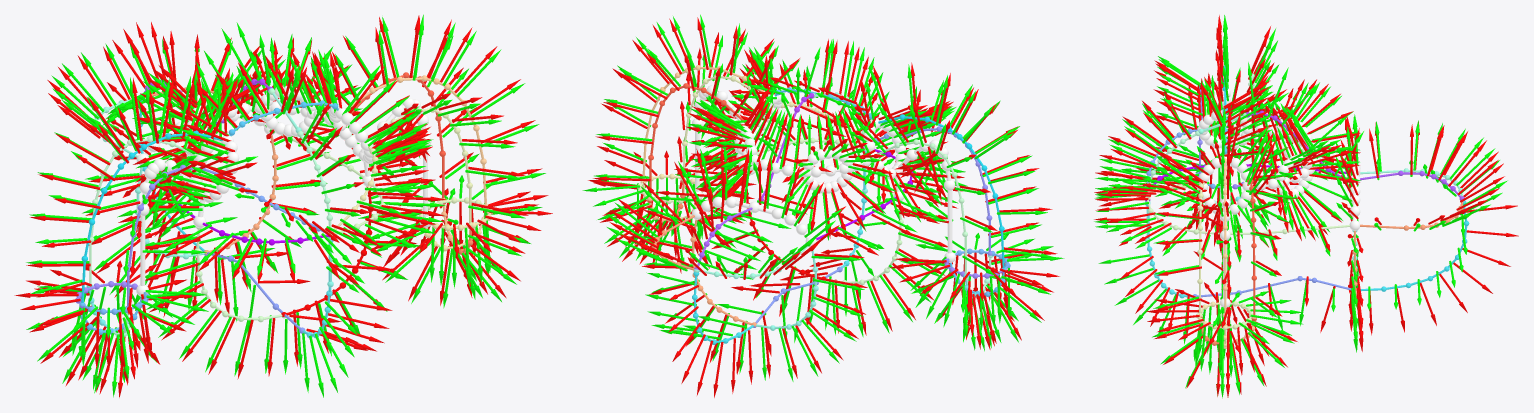
The model's file is scaffolds3d_dog.gltf.
The picture shows the model from 3 angles, left to right: view 1: azimuth 30°, elevation 25°; view 2: azimuth 150°, elevation 25°; view 3: azimuth 270°, elevation 25°; orthographic projection. The views are drawn at different scales.
Bounding box in the file's own units: 0.9137 × 0.5678 × 0.7853.
